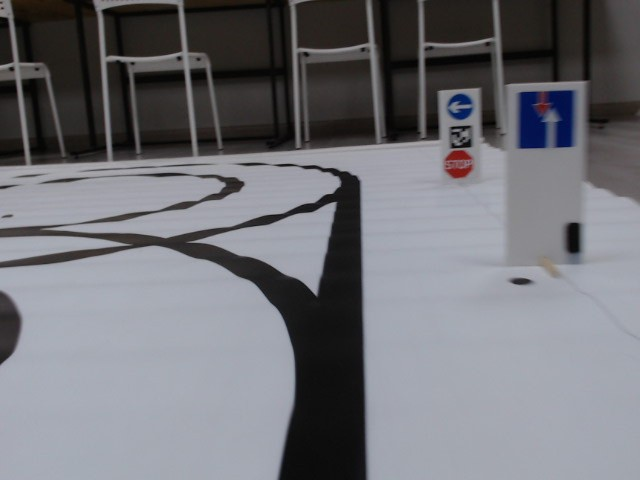Stop: (443, 150, 474, 180)
priority_movement: (517, 87, 575, 150)
